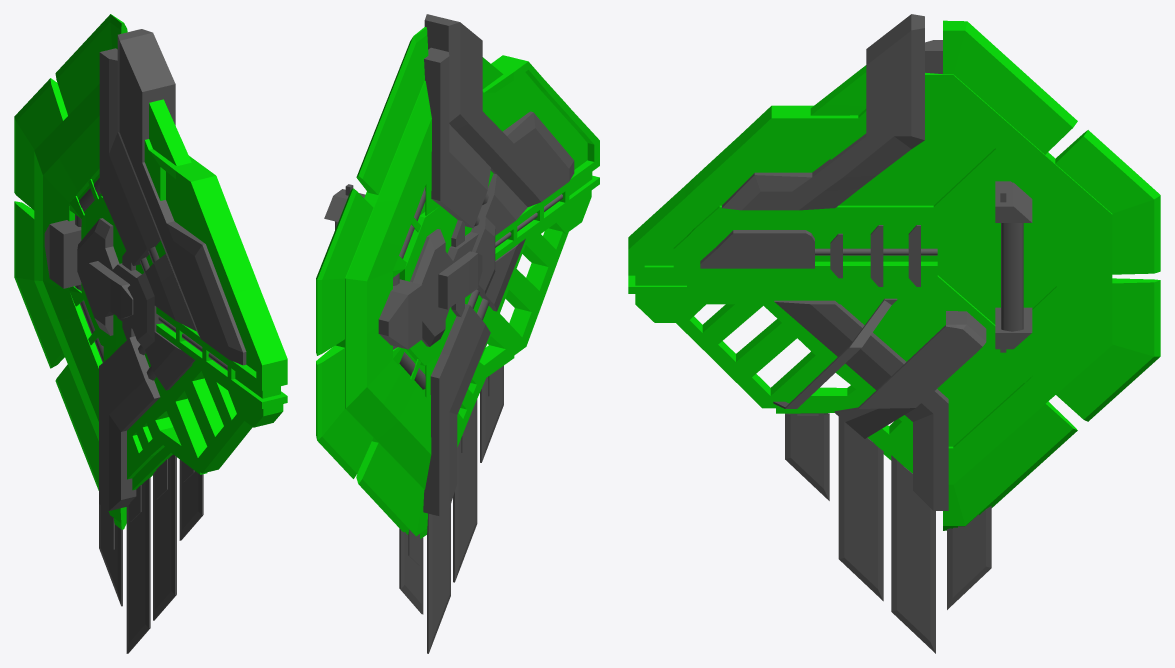
File: Shield_01.fbx
The picture shows the model from 3 angles, left to right: view 1: azimuth 30°, elevation 25°; view 2: azimuth 150°, elevation 25°; view 3: azimuth 270°, elevation 25°; orthographic projection.
Visible parts, largest first — view 1: Shield_01; view 2: Shield_01; view 3: Shield_01.
Part boxes in pixels (x1,y1,x2,y2): Shield_01: (14,14,287,653); Shield_01: (316,14,599,653); Shield_01: (628,14,1160,653).
Size of the model in its own units: 1 by 7.09 by 5.42.
